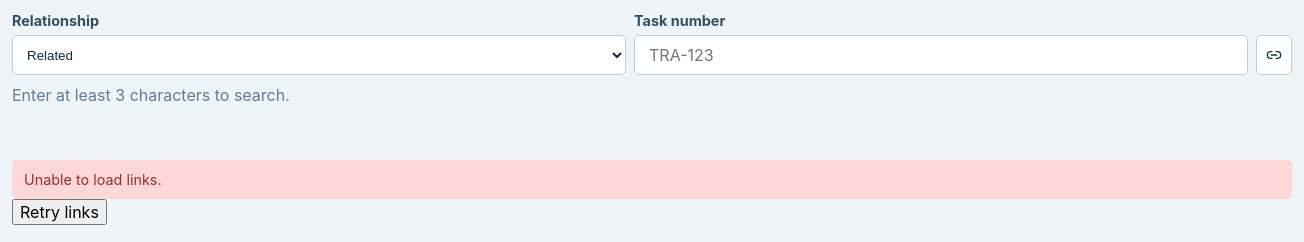
Test: keeps async failures visible and retryable
Expected: the message reads "Unable to load links.", [24,171,162,188]
Click the button "Retry links": (59, 212) [12,199,107,225]
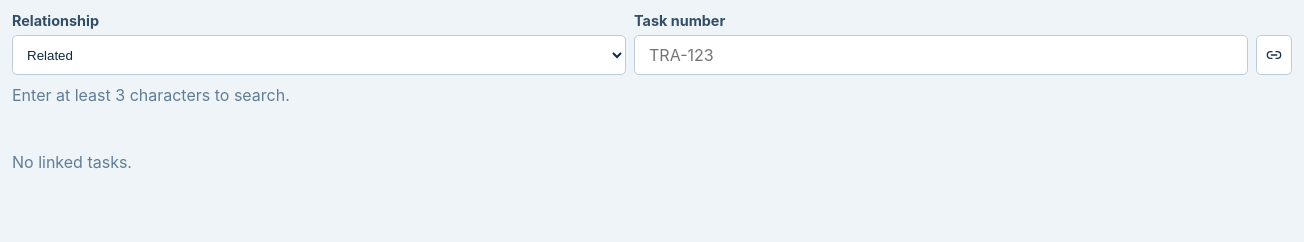
Now the text "No linked tasks." is shown, box [12,152,132,172]
